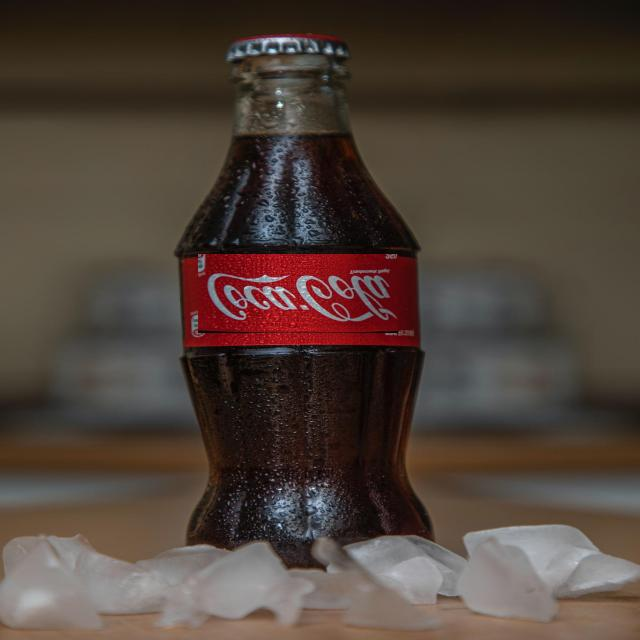coca-cola: (198, 254, 398, 333)
